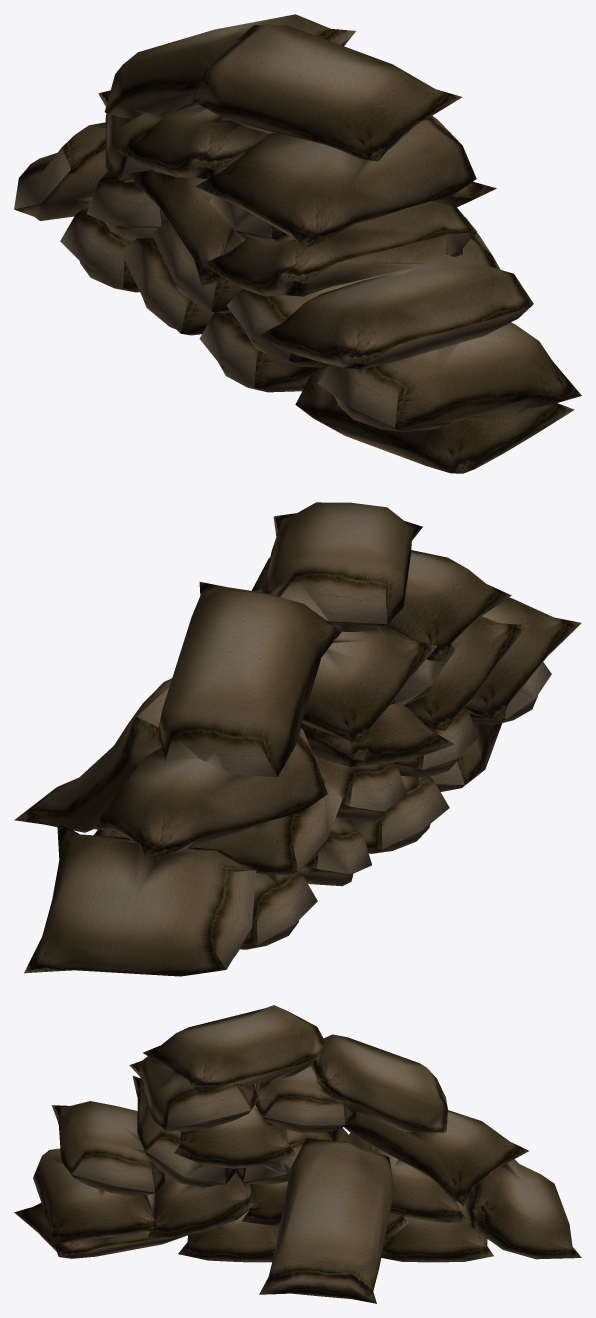
The model's file is sandbags_1.obj.
3 renders of one model, top to bottom at view 1: azimuth 30°, elevation 25°; view 2: azimuth 150°, elevation 25°; view 3: azimuth 270°, elevation 25°, orthographic. The views are drawn at different scales.
Parts seen in each view (by area): view 1: bags; view 2: bags; view 3: bags.
Boxes of the visible parts, x1,y1,x2,y2 form: bags: (14,14,581,473); bags: (14,502,581,976); bags: (14,1005,581,1303).
Size of the model in its own units: 38.84 by 32.16 by 77.75.
